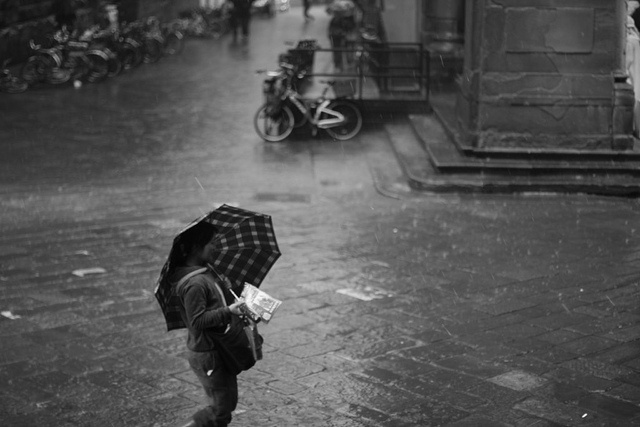non-vehicle: (254, 69, 360, 141), (19, 49, 107, 85), (80, 25, 122, 75), (94, 29, 145, 69), (164, 15, 209, 54), (120, 24, 162, 62), (0, 57, 30, 93), (188, 8, 226, 35)
